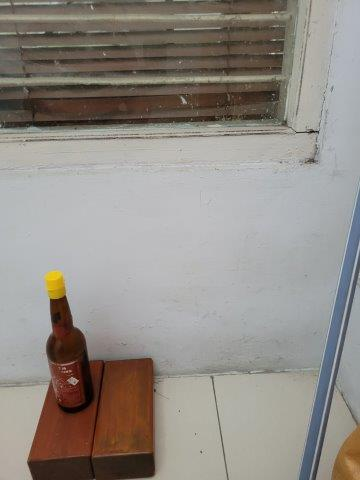botolkaca: (43, 271, 95, 412)
